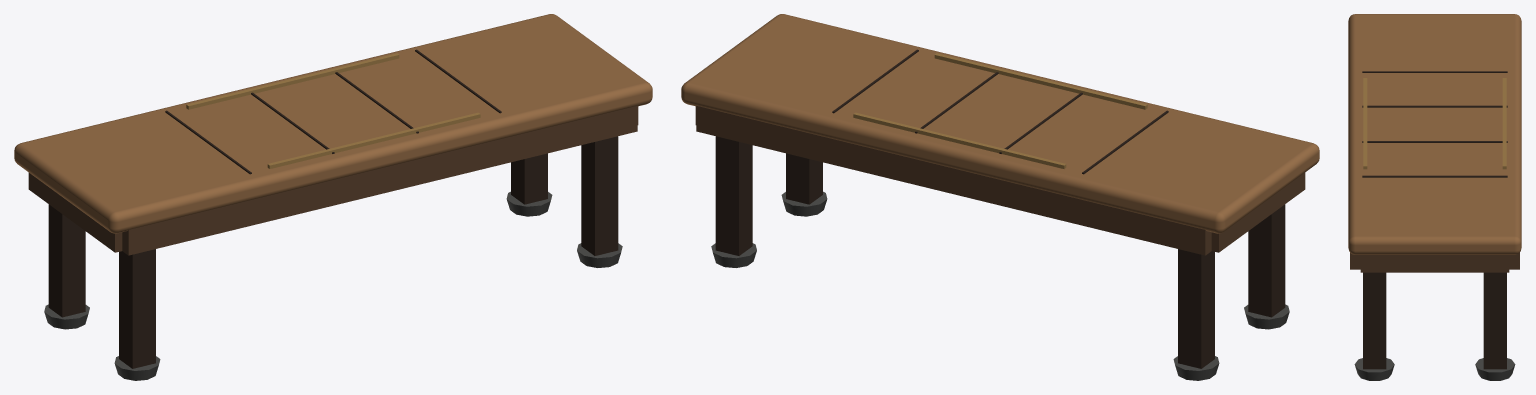
Rendered from sk_table_royal.glb.
3 views of the same model, side by side, from view 1: azimuth 30°, elevation 25°; view 2: azimuth 150°, elevation 25°; view 3: azimuth 270°, elevation 25° (orthographic). The views are drawn at different scales.
Parts seen in each view (by area): view 1: wood, metal; view 2: wood, metal; view 3: wood, metal.
Boxes of the visible parts, left/top/right/bottom form: wood: left=14, top=14, right=652, bottom=368; metal: left=44, top=53, right=622, bottom=380; wood: left=681, top=14, right=1319, bottom=368; metal: left=711, top=53, right=1289, bottom=380; wood: left=1348, top=14, right=1521, bottom=369; metal: left=1354, top=78, right=1515, bottom=380.
Bounding box in the file's own units: 3.48 × 1.11 × 1.12.
